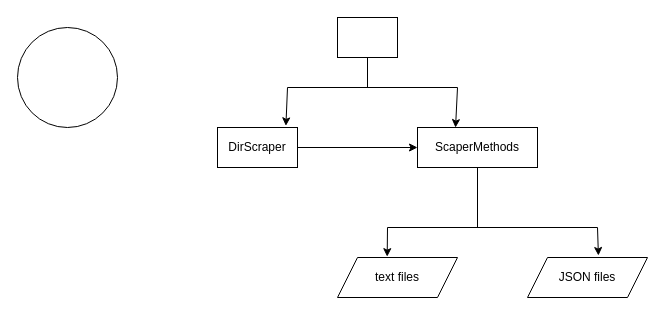
This 665x315 diagram has some shape labels left out. Each missing label, with the box of its shape:
App: (336, 16, 398, 58)
builder pattern: (16, 26, 118, 128)
